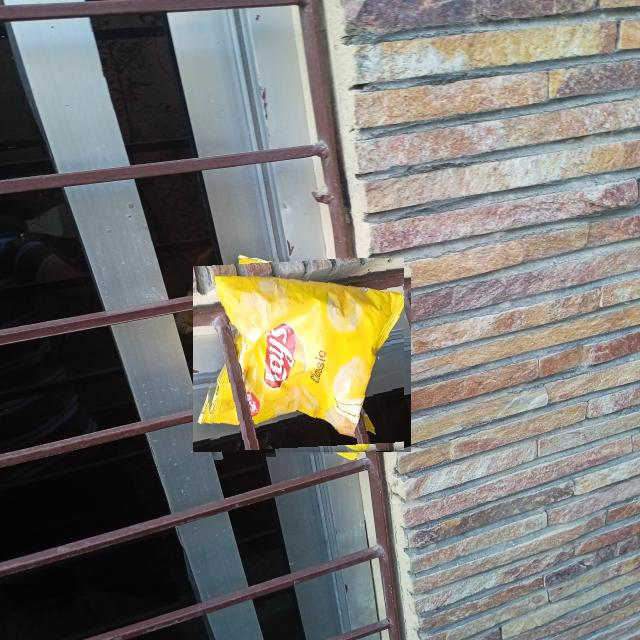Plastic: (201, 258, 404, 460)
